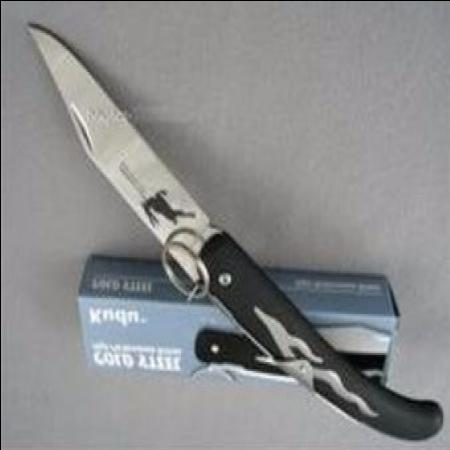long weapon: (18, 21, 234, 286)
